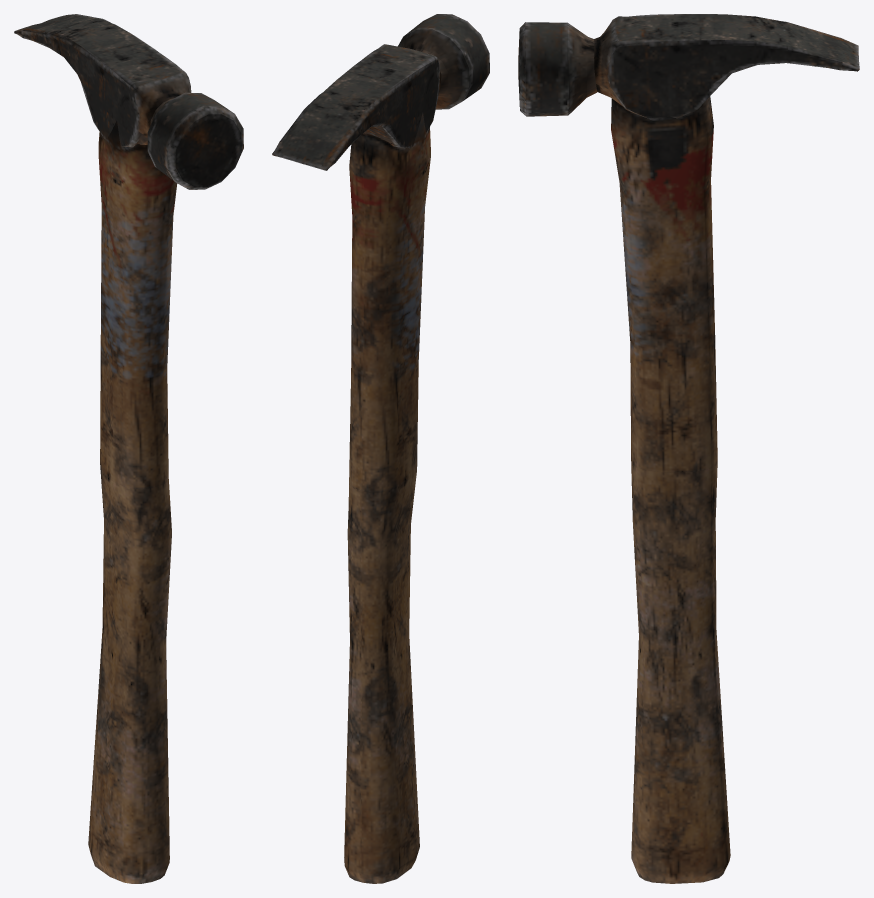
The model's file is Hammer.fbx.
3 renders of one model, left to right at view 1: azimuth 30°, elevation 25°; view 2: azimuth 150°, elevation 25°; view 3: azimuth 270°, elevation 25°, orthographic. The views are drawn at different scales.
Parts seen in each view (by area): view 1: Hammer; view 2: Hammer; view 3: Hammer.
Boxes of the visible parts, x1=… form: Hammer: x1=14, y1=14, x2=243, y2=883; Hammer: x1=272, y1=14, x2=489, y2=883; Hammer: x1=518, y1=14, x2=859, y2=883.
Bounding box in the file's own units: 2.2 × 22.33 × 8.17.
